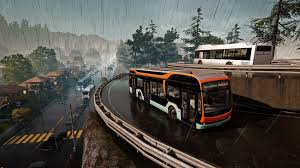bus: (127, 63, 233, 131)
